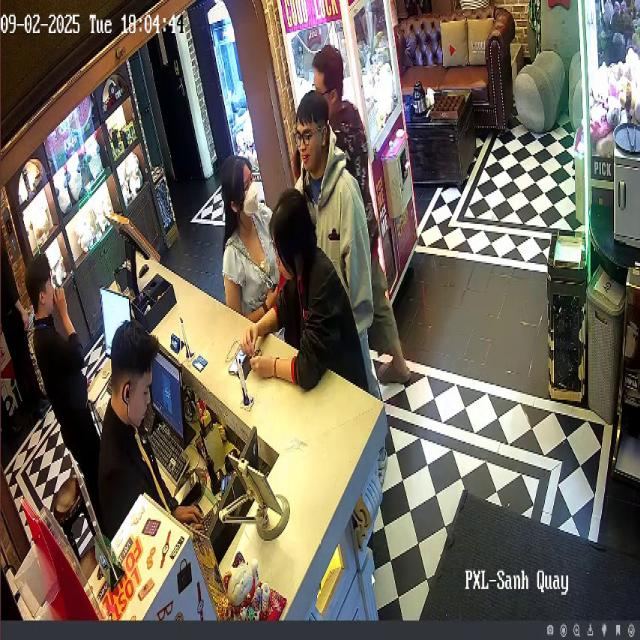khach: (314, 41, 419, 348), (267, 176, 390, 413), (286, 87, 389, 349), (212, 117, 288, 328)
nhan vien: (101, 303, 170, 564), (29, 229, 110, 437)
